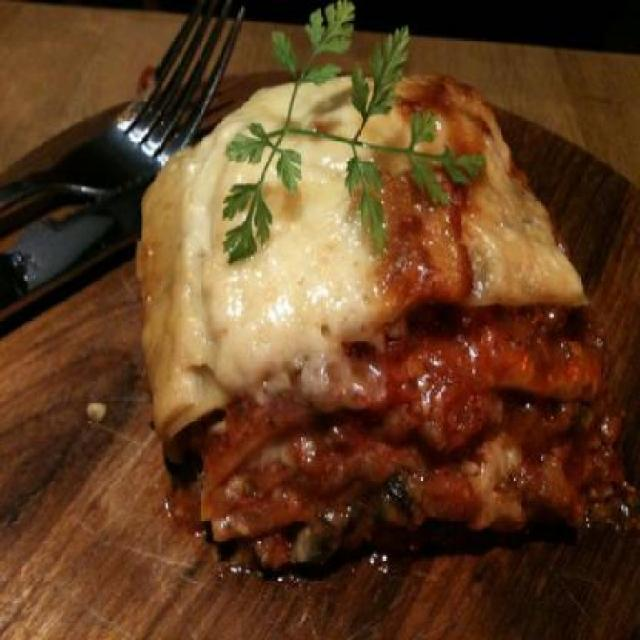Lasagna: (112, 63, 625, 582)
